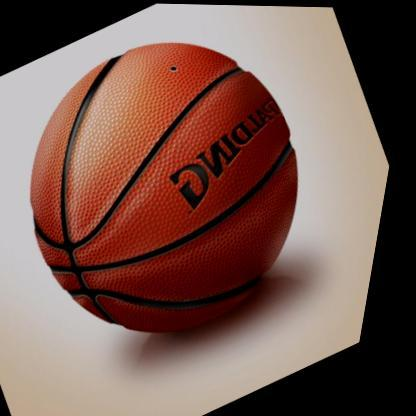basketball: (0, 0, 379, 382)
